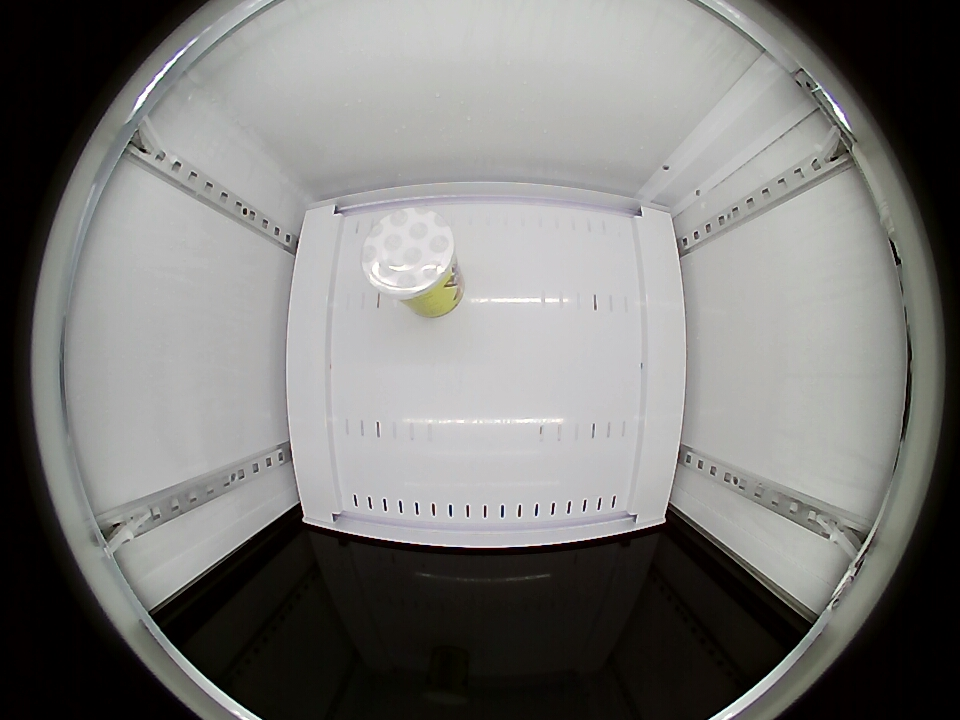kebike: (362, 209, 461, 309)
